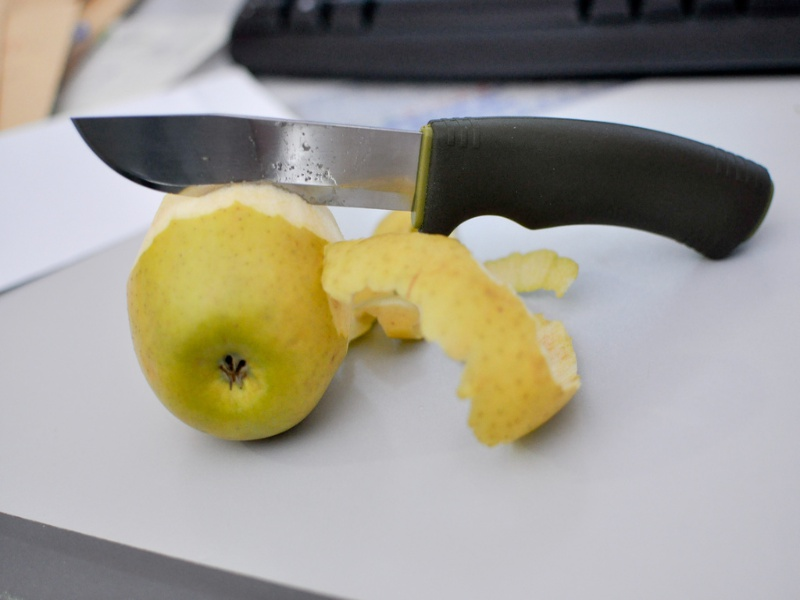knife: (68, 108, 782, 266)
